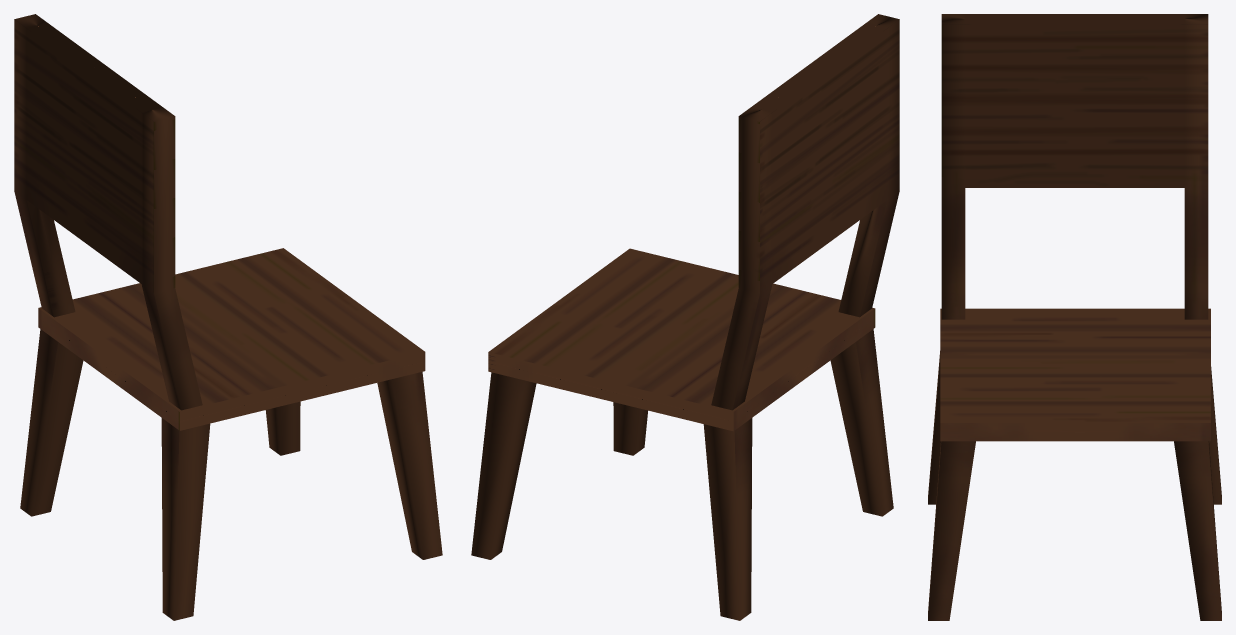
File: chair.glb
3 views of the same model, side by side, from view 1: azimuth 30°, elevation 25°; view 2: azimuth 150°, elevation 25°; view 3: azimuth 270°, elevation 25° (orthographic). The views are drawn at different scales.
Parts seen in each view (by area): view 1: Cube; view 2: Cube; view 3: Cube.
Boxes of the visible parts, x1,y1,x2,y2 form: Cube: [14, 14, 442, 620]; Cube: [471, 14, 899, 620]; Cube: [928, 14, 1221, 620].
Size of the model in its own units: 0.4531 by 0.7647 by 0.4282.
Materials: 1 (1 with a texture image).
